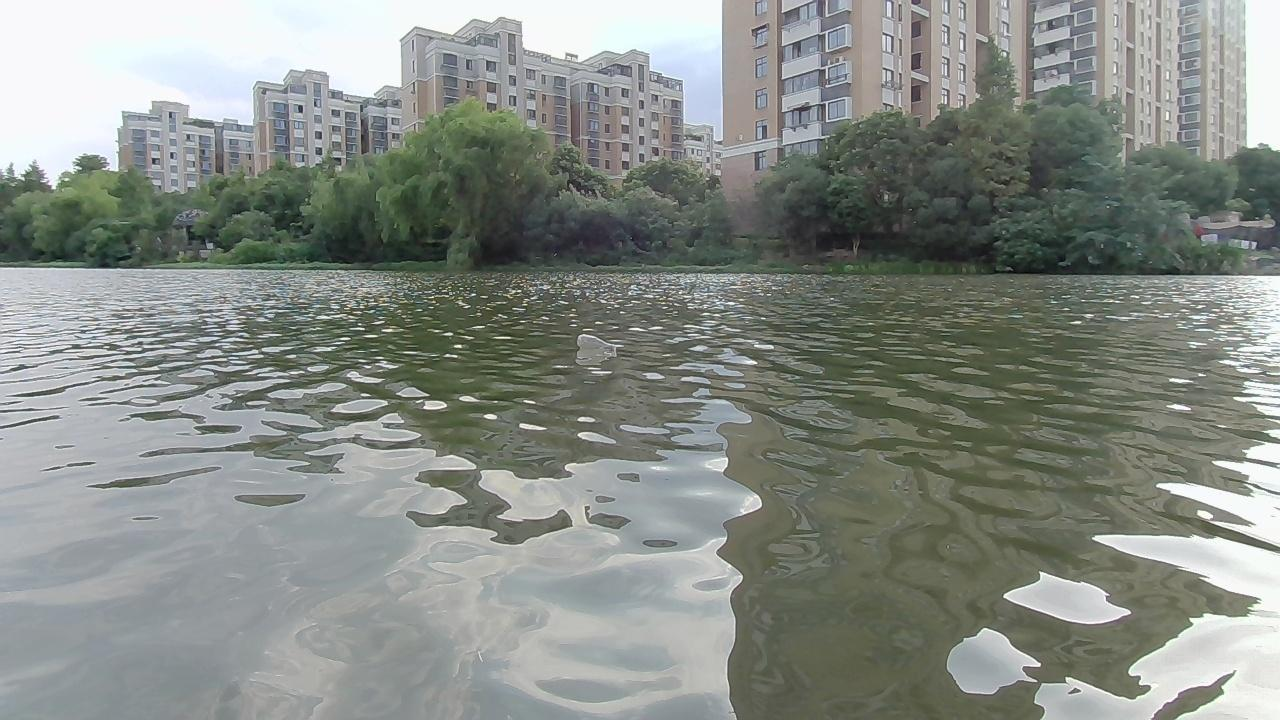bottle: (574, 330, 618, 360)
